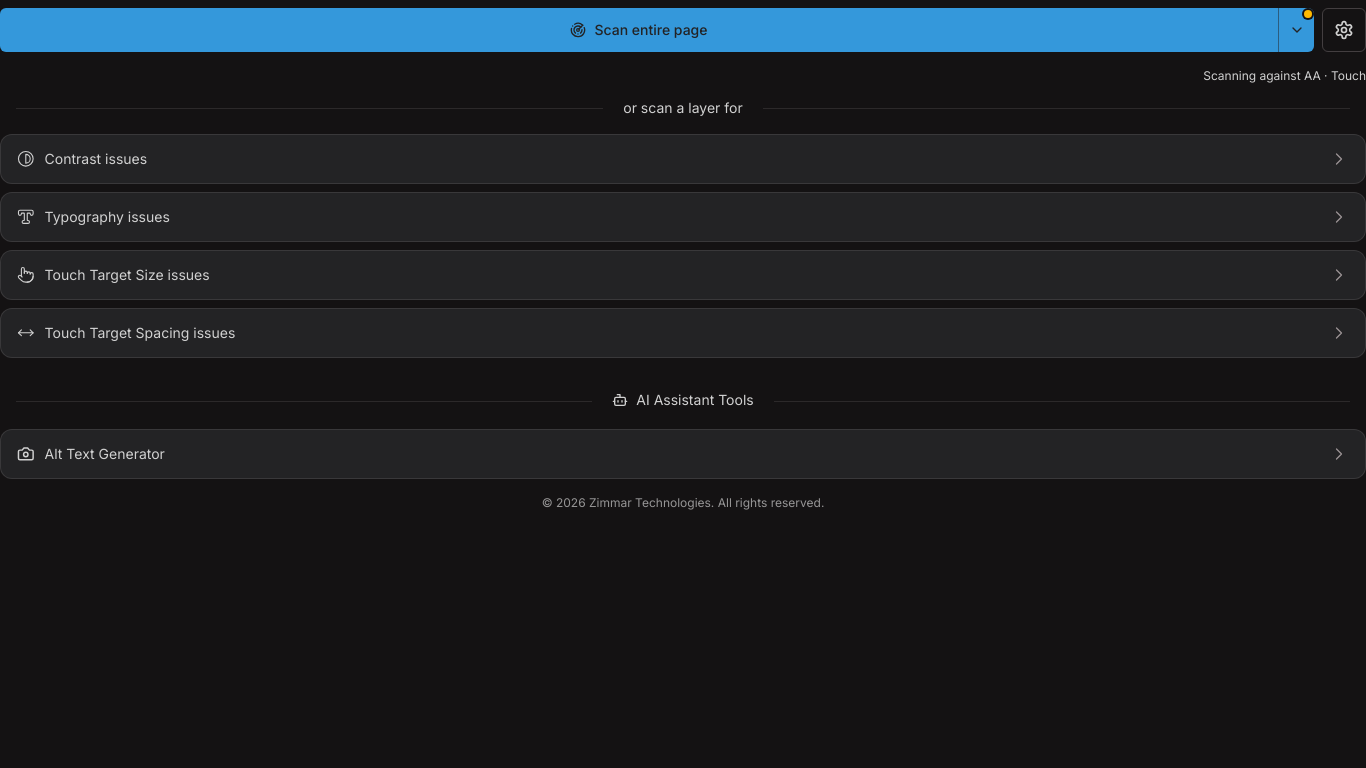
Test: AccessibilityValidator › updates the readout when the popover's toggles are used
The width and height of the screenshot is (1366, 768).
Expected: the text "Scanning against AA · Touch" is shown, top-left (1203, 68), bottom-right (1365, 83)
Click the button named "Scan settings".
click(1344, 30)  # box top-left (1322, 8), bottom-right (1365, 52)
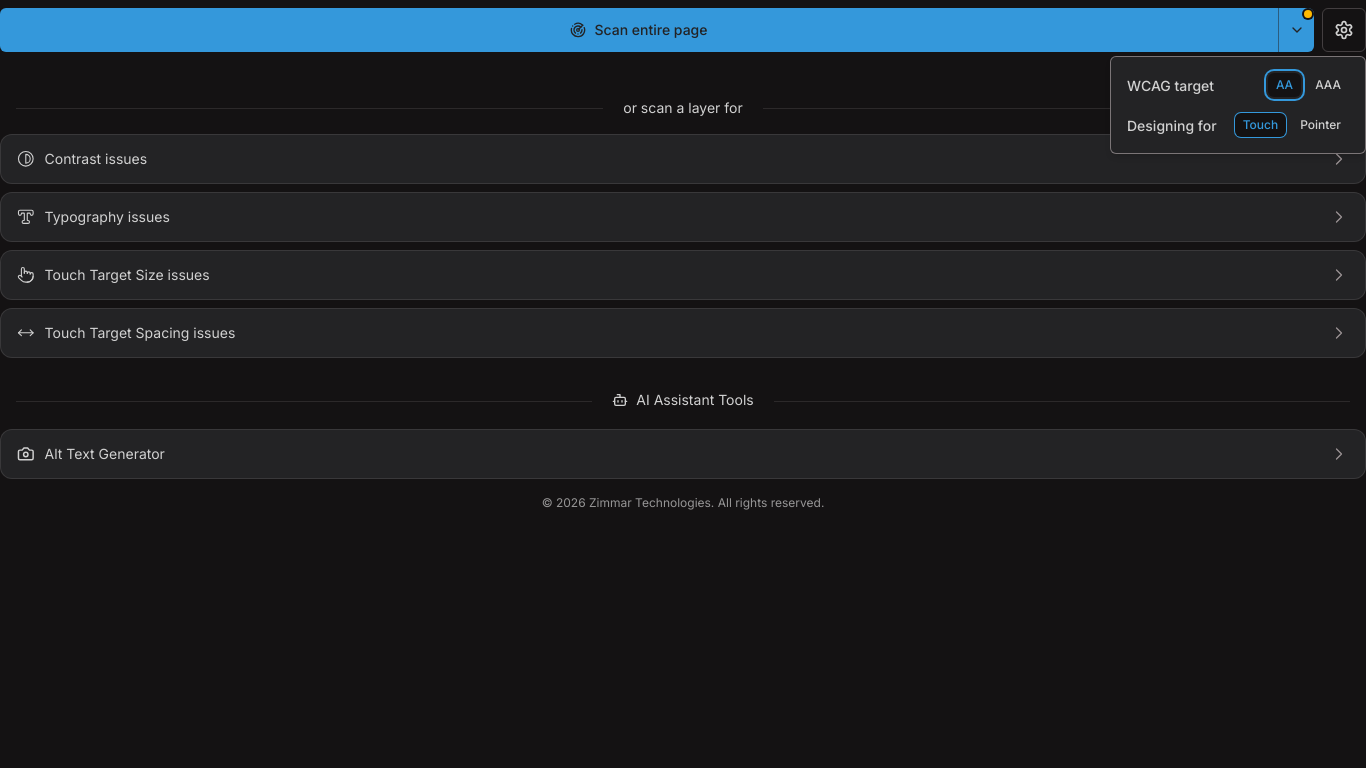
Click the radio button labelled "AAA".
click(1328, 85)  # box top-left (1307, 73), bottom-right (1349, 97)
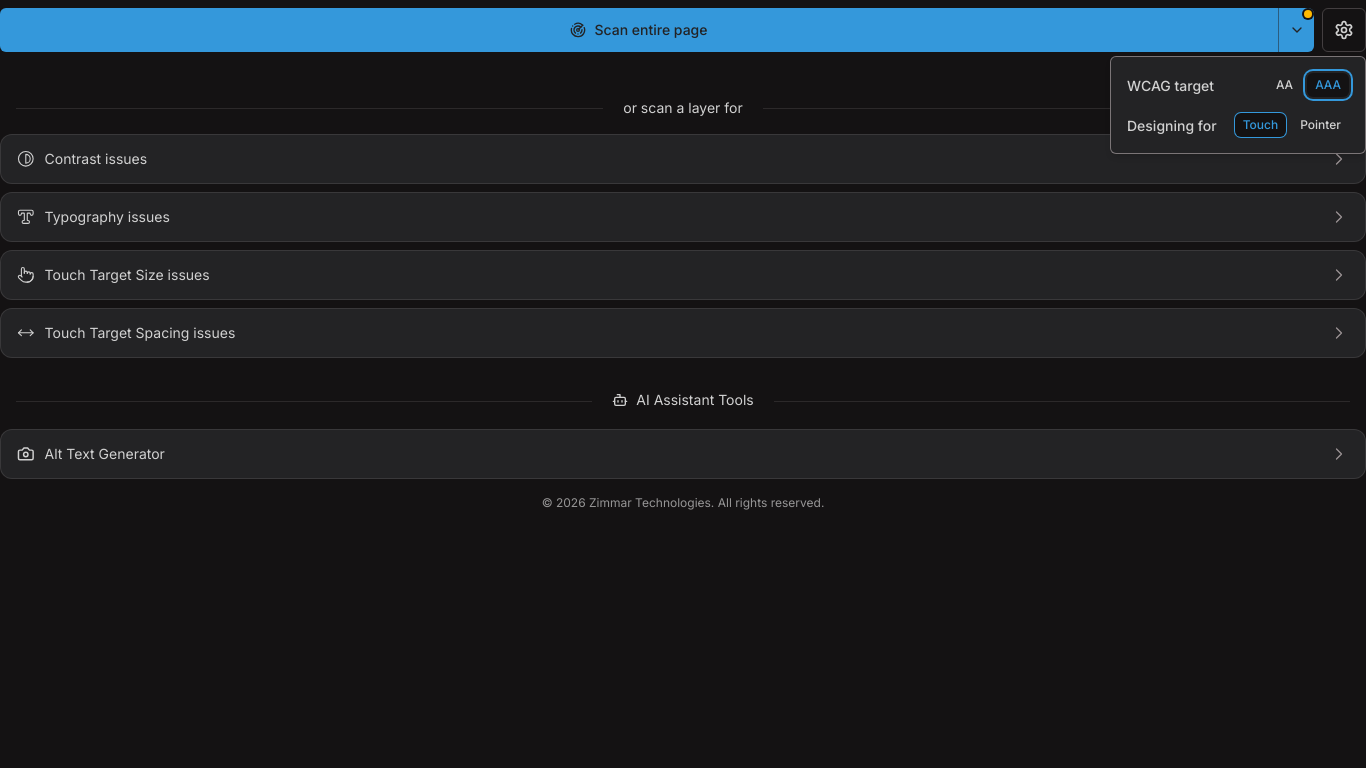
Click the radio button labelled "Pointer".
click(1321, 125)  # box top-left (1292, 113), bottom-right (1349, 137)
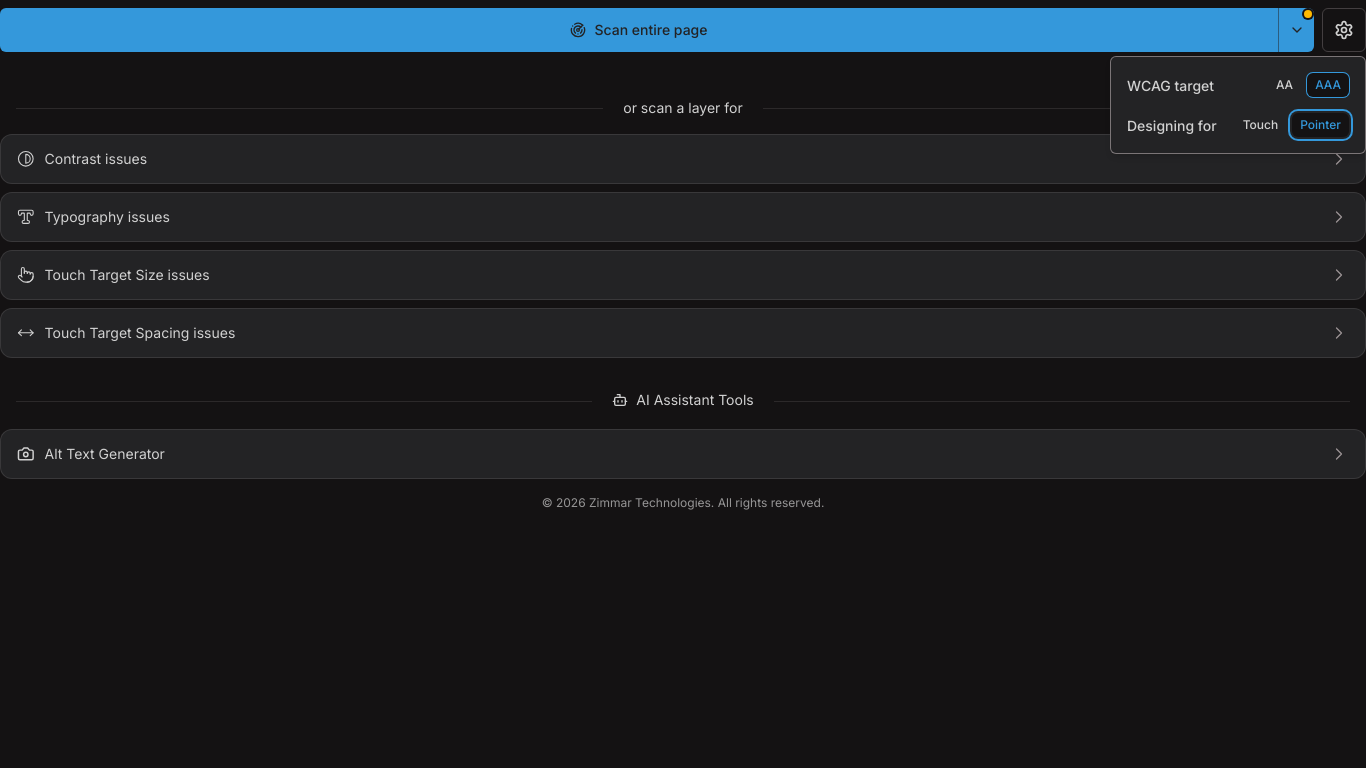
Result: the text "Scanning against AAA · Pointer" is shown at top-left (1190, 68), bottom-right (1365, 83)
